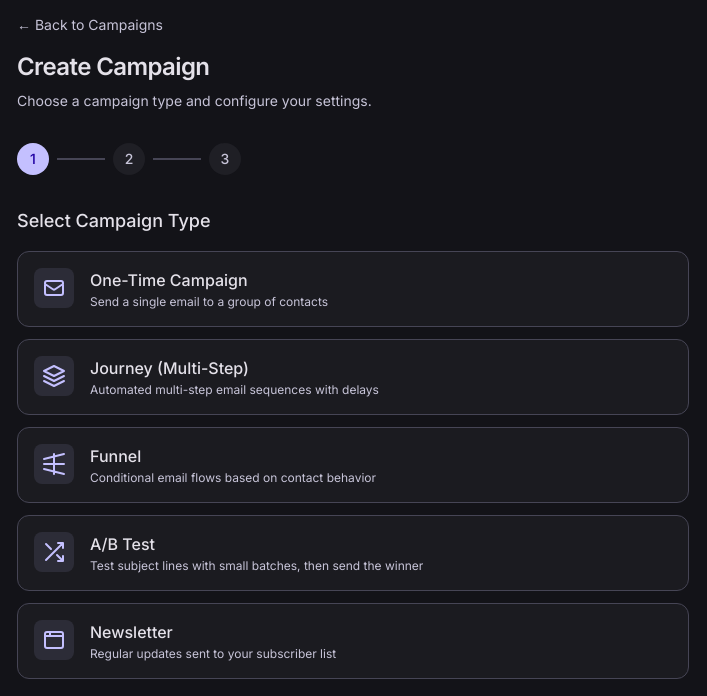
Test case: NewCampaignPage › shows error if schedule is chosen but no date picked
The image size is (707, 696).
Click the button "One-Time Campaign Send a single email to a group of contacts": (54, 288) [17, 251, 689, 327]
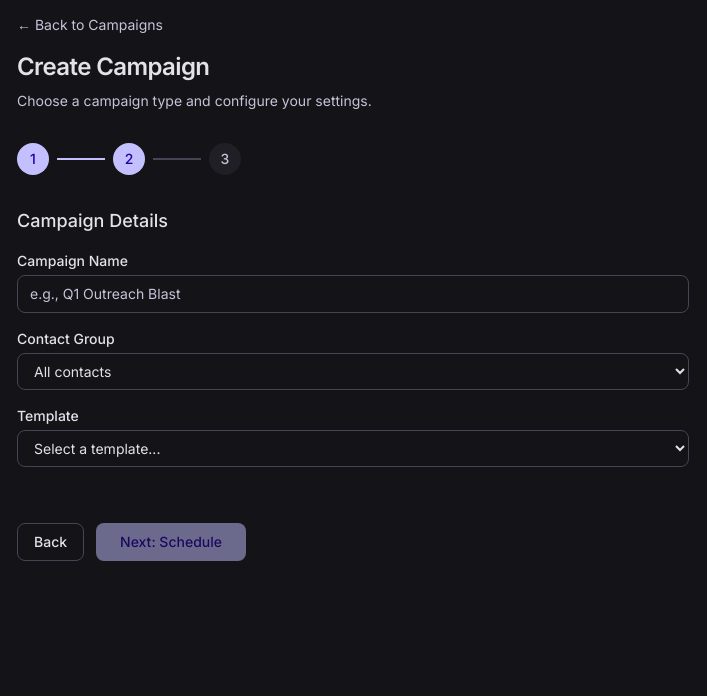
In the field labelled "Campaign Name": (353, 294) [17, 275, 689, 313], type "No Date"
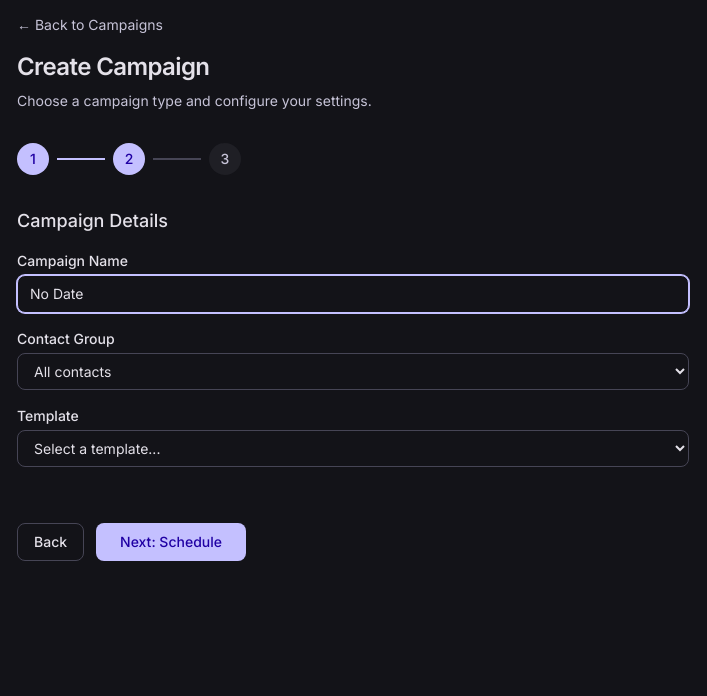
Click the button "Next: Schedule": (171, 542) [96, 523, 246, 561]
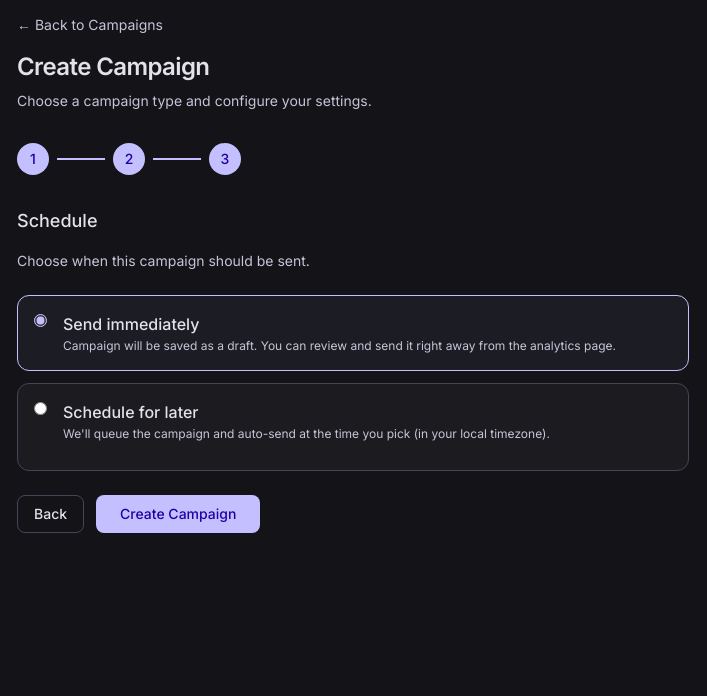
Click the radio button labelled "Schedule for later": (40, 408) [34, 402, 47, 415]
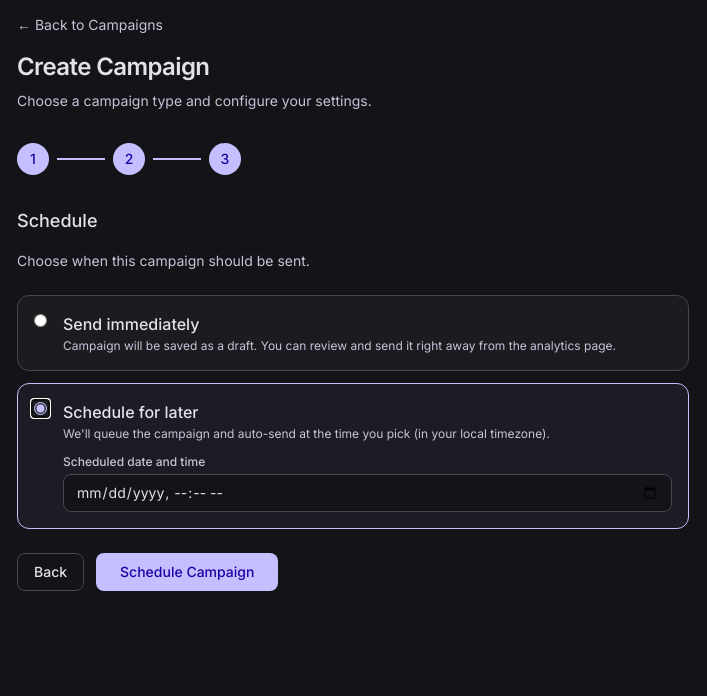
Click the button "Schedule Campaign": (187, 572) [96, 553, 278, 591]
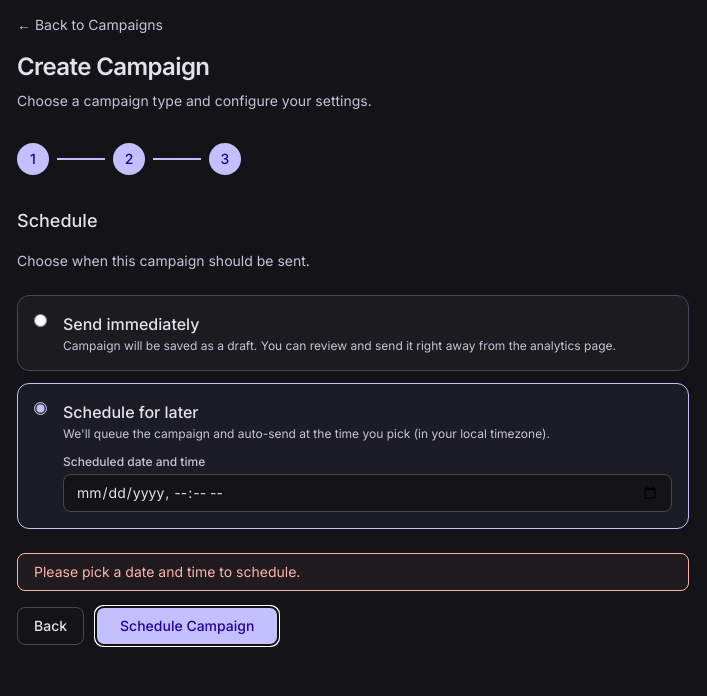
Expected: the message shows "pick a date", [34, 563, 300, 580]
